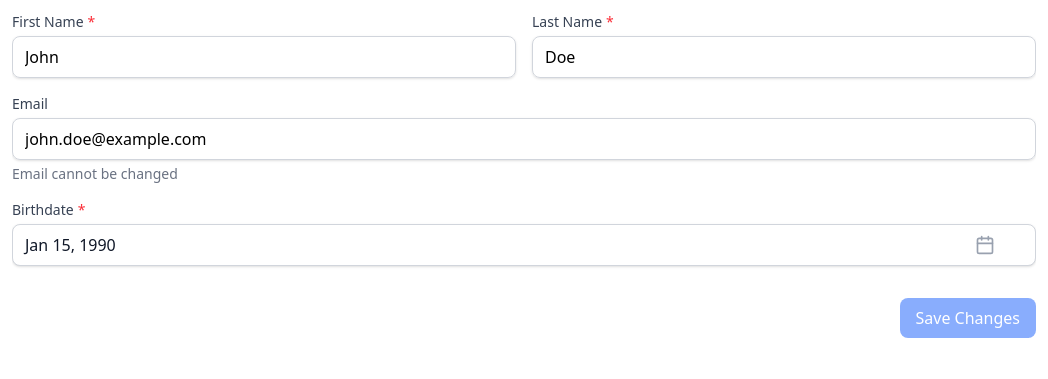
Test: ProfileForm › should display validation error for invalid last name
Type "A" into the field showing "Doe".
click(784, 57); type("A")  # box [532,36,1036,78]
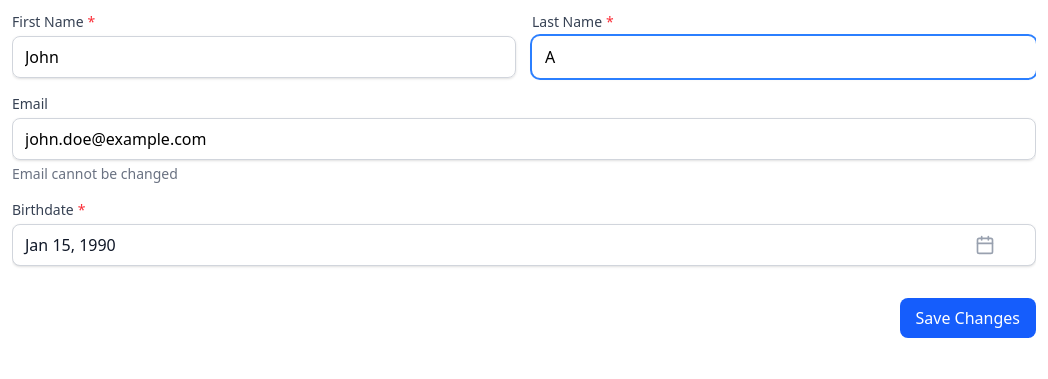
Click the button "Save Changes".
click(968, 318)  # box [900,298,1036,338]
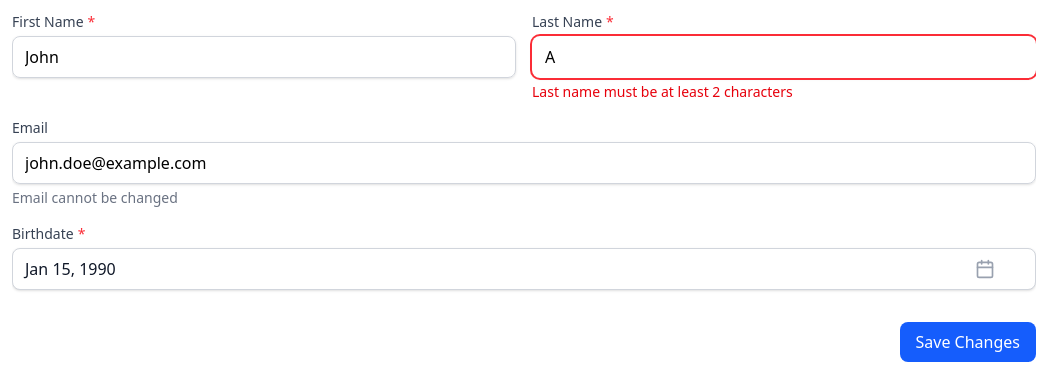
Expected: the text "Last name must be at least 2 characters" is shown, [532,82,793,101]
